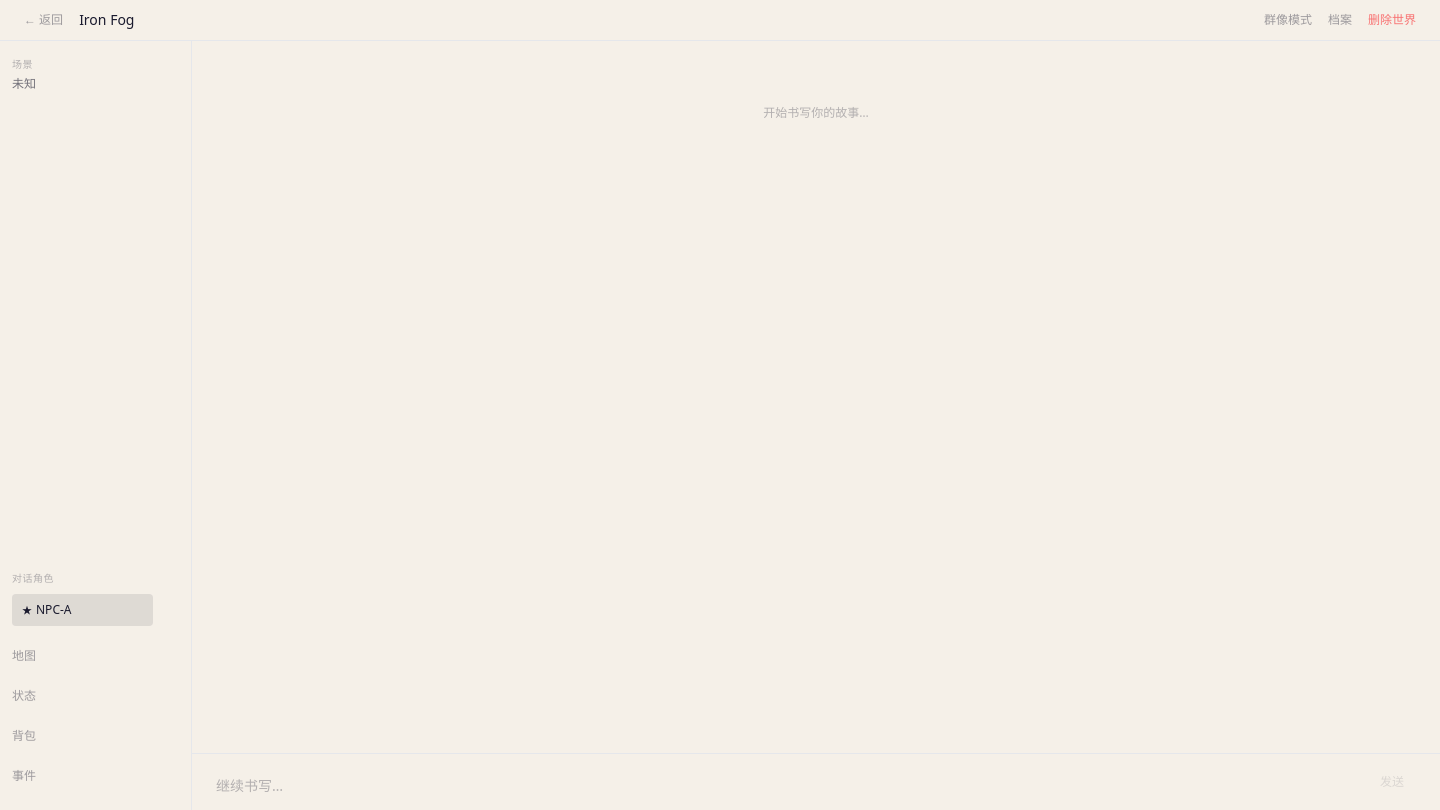
Test: saves chat blocks to localStorage after each message
This screenshot has width=1440, height=810.
Expected: the heading "Iron Fog" is shown, [79,10,134,29]
Type "test message" into the text box.
click(786, 787); type("test message")  # box [216,775,1356,798]
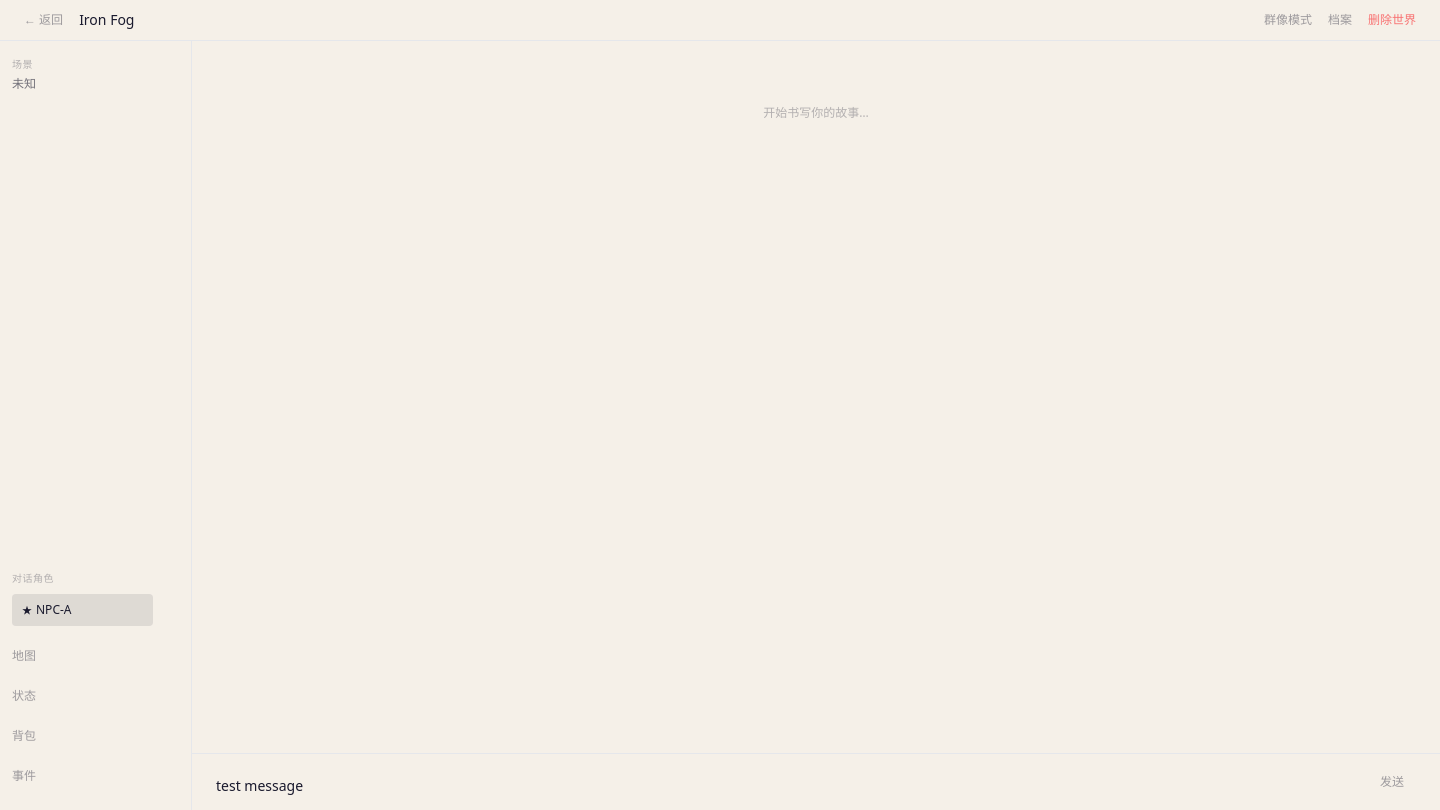
Click the button "发送".
click(1392, 782)  # box [1368,766,1416,798]
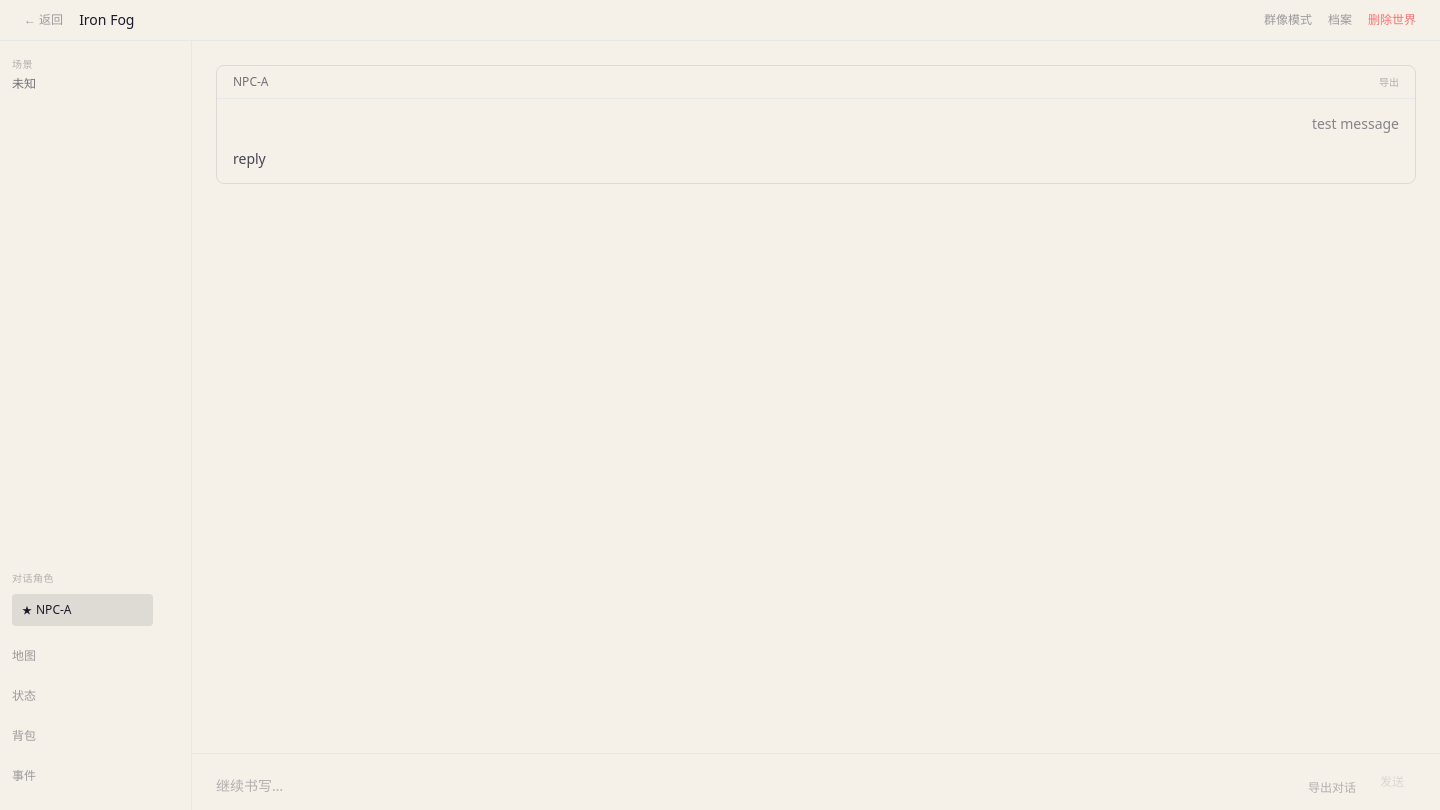
Expected: the text "test message" is shown, [1312,114,1399,134]
